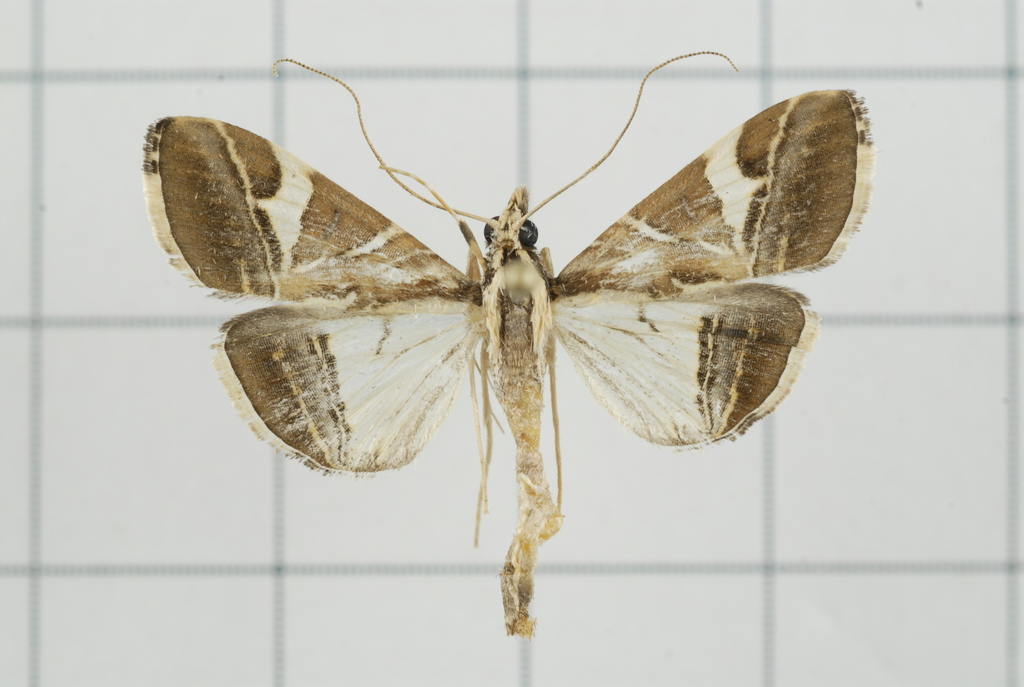Butterfly: (127, 95, 926, 671)
